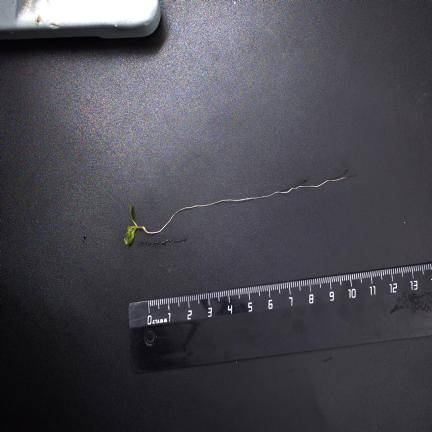leaf1: (124, 226, 136, 244)
leaf2: (130, 204, 133, 220)
root: (160, 177, 346, 232)
stem: (133, 221, 160, 234)
